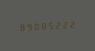eight: (17, 21, 23, 32), (38, 20, 44, 31)
five: (45, 20, 51, 30)
nine: (24, 21, 30, 31)
two: (52, 19, 58, 30), (59, 19, 65, 30), (66, 19, 72, 29)
zero: (31, 20, 37, 31)
